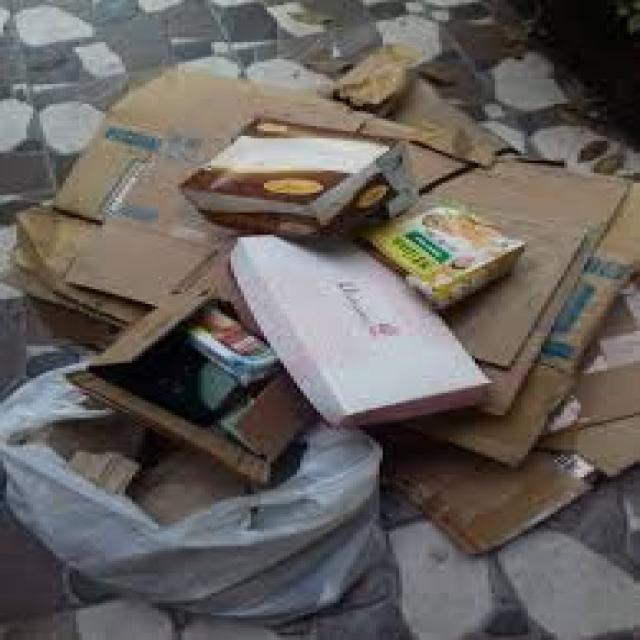Kertas: (48, 22, 630, 620)
